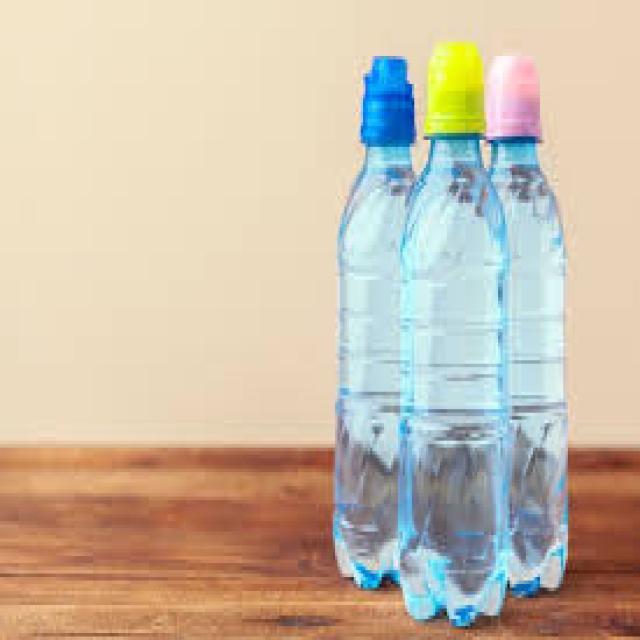bottle: (400, 41, 509, 626), (486, 54, 567, 595), (335, 56, 415, 587)
